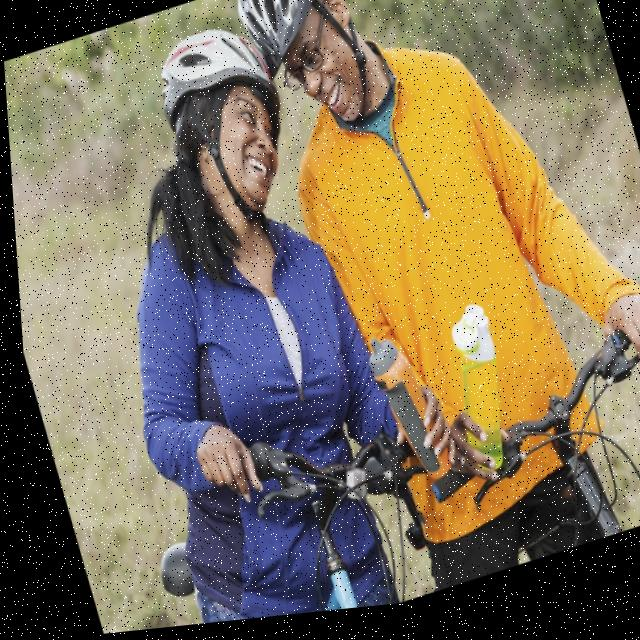illegal_helmet: (136, 10, 314, 261), (226, 0, 387, 173)
